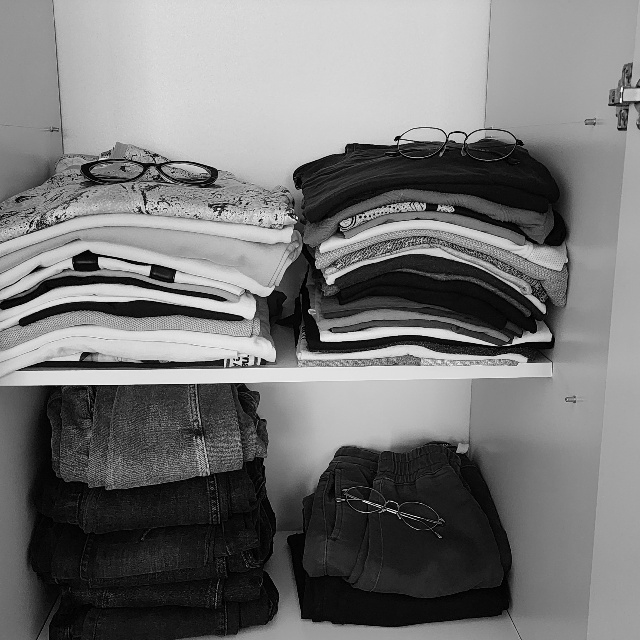glasses: (333, 480, 448, 542), (73, 154, 225, 196), (381, 125, 525, 166)
